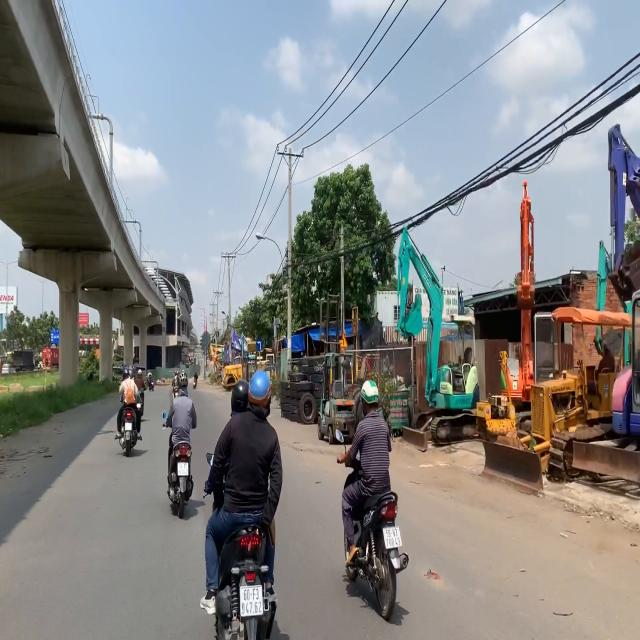Re trai: (255, 338, 262, 352)
